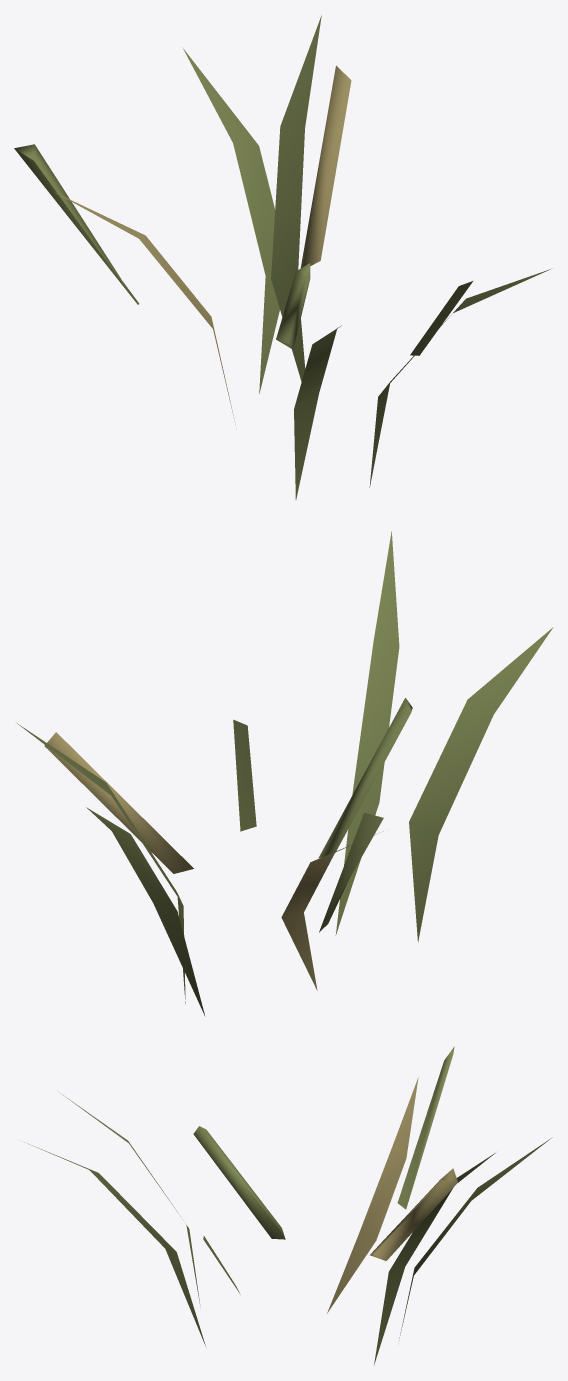
Rendered from Herbes_Jeune_LOD2.fbx.
3 renders of one model, top to bottom at view 1: azimuth 30°, elevation 25°; view 2: azimuth 150°, elevation 25°; view 3: azimuth 270°, elevation 25°, orthographic. The views are drawn at different scales.
Parts seen in each view (by area): view 1: Herbes_Jeune_LOD2; view 2: Herbes_Jeune_LOD2; view 3: Herbes_Jeune_LOD2.
Boxes of the visible parts, <box> form: Herbes_Jeune_LOD2: <box>14,15,550,499</box>; Herbes_Jeune_LOD2: <box>17,531,553,1016</box>; Herbes_Jeune_LOD2: <box>24,1046,552,1365</box>.
Size of the model in its own units: 33.38 by 29.75 by 57.97.
